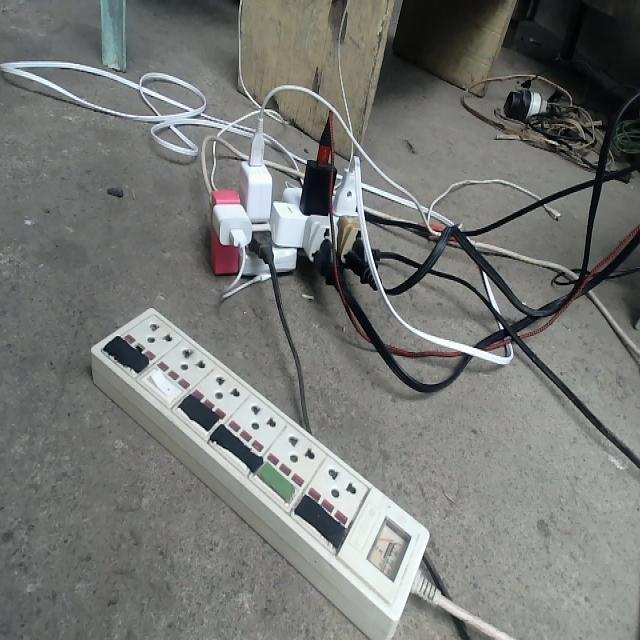-: (200, 136, 382, 285)
